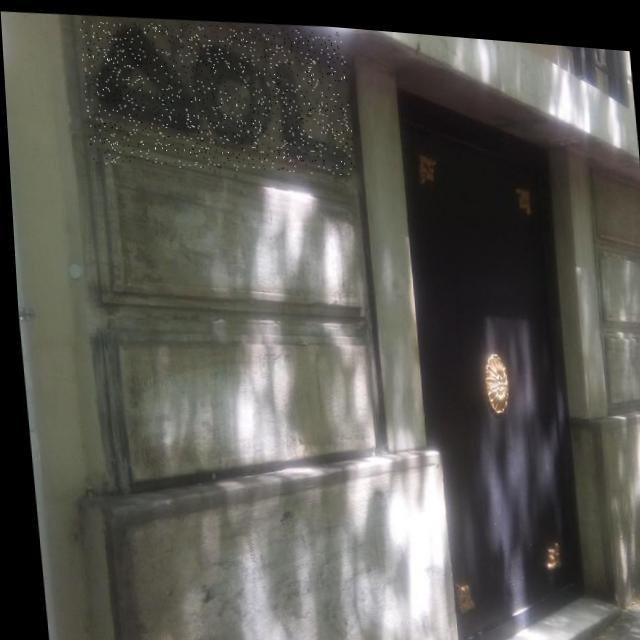-: (77, 8, 354, 178)
